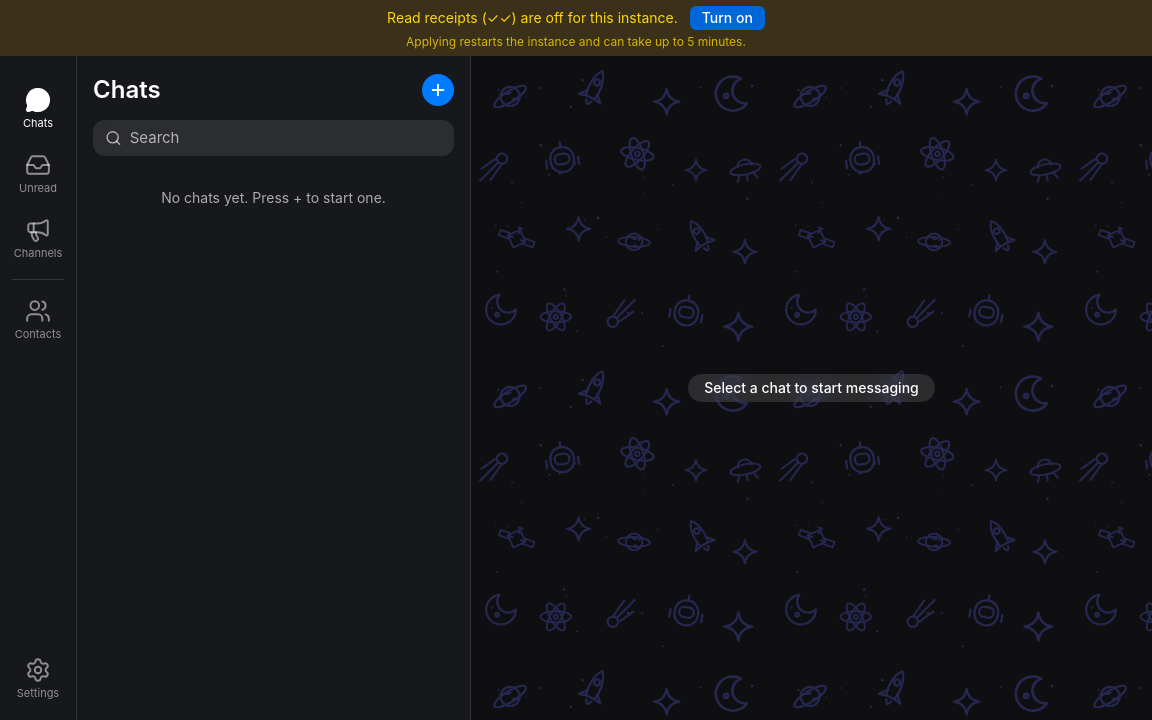
Test: search › finds users, bots, channels and groups from the account dialogs
The width and height of the screenshot is (1152, 720).
Type "dev" into the field named "Search chats" at x=286, y=138, box [130, 127, 442, 149]
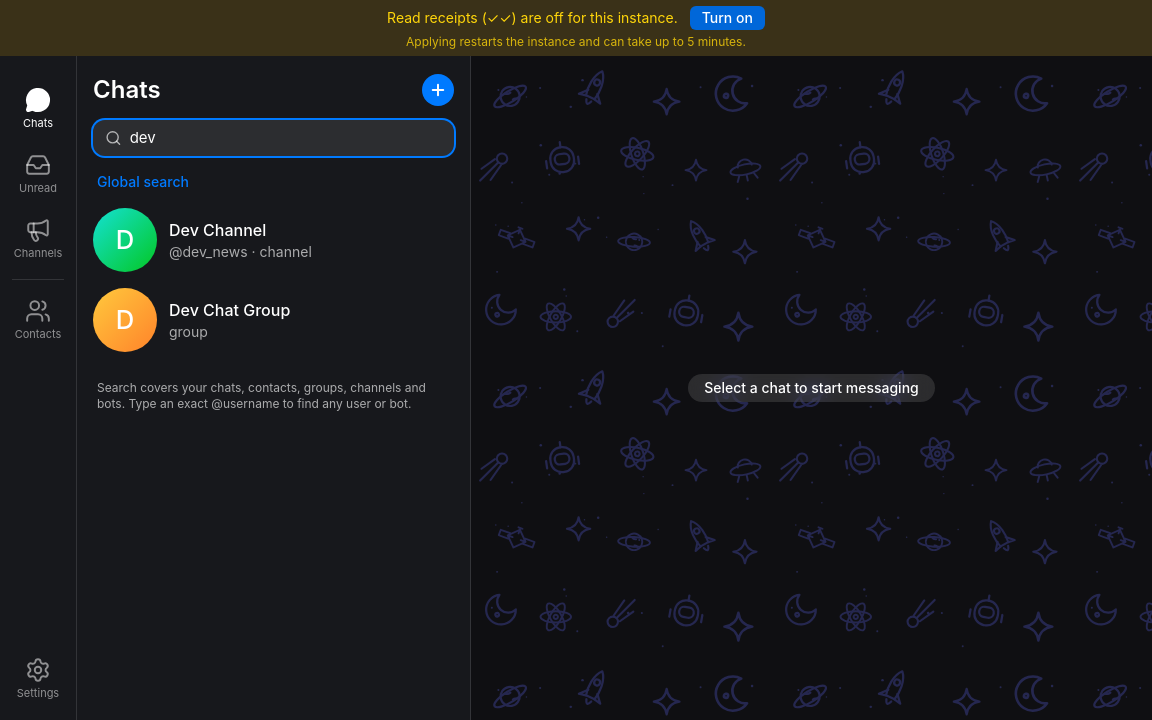
Expected: the text "Dev Channel" is shown, [169, 220, 266, 240]
Expected: the text "Dev Chat Group" is shown, [169, 298, 290, 322]
Expected: the text "@dev_news · channel" is shown, [169, 242, 312, 262]
